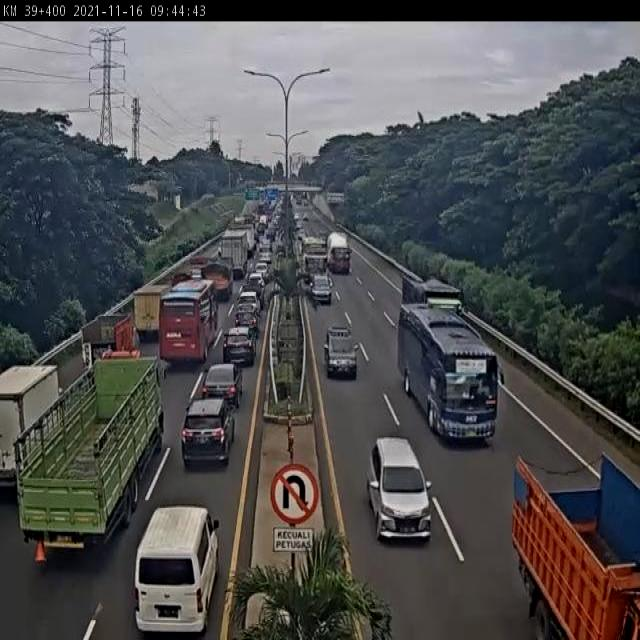Bus: (396, 299, 504, 445), (158, 273, 221, 366), (299, 235, 331, 287)
Car: (366, 436, 432, 541), (180, 395, 237, 467), (200, 361, 242, 408), (323, 325, 358, 380), (221, 324, 255, 366), (232, 301, 261, 334), (309, 274, 333, 305), (234, 288, 262, 314), (252, 260, 271, 281), (247, 271, 266, 288)
Truck: (13, 352, 170, 558), (510, 447, 640, 640), (0, 365, 61, 491), (400, 274, 469, 326), (79, 313, 135, 370), (133, 283, 169, 340), (218, 231, 252, 282), (202, 260, 233, 302), (326, 231, 352, 274), (234, 224, 256, 256)
Van: (132, 504, 225, 639)
